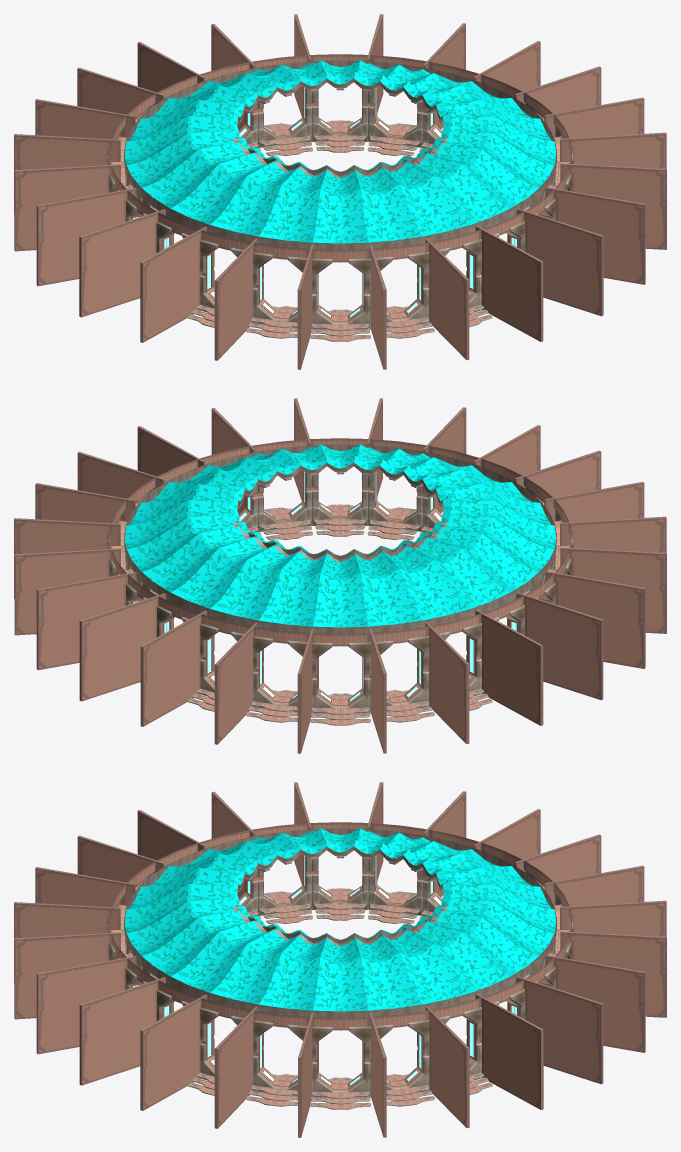
File: Starship_gates.fbx
3 views of the same model, one above another, from view 1: azimuth 30°, elevation 25°; view 2: azimuth 150°, elevation 25°; view 3: azimuth 270°, elevation 25° (orthographic).
Parts seen in each view (by area): view 1: Starship_gates; view 2: Starship_gates; view 3: Starship_gates.
Boxes of the visible parts, x1=… form: Starship_gates: x1=14, y1=14, x2=666, y2=369; Starship_gates: x1=14, y1=398, x2=666, y2=753; Starship_gates: x1=14, y1=782, x2=666, y2=1137.
Size of the model in its own units: 2229 by 428 by 2229.
